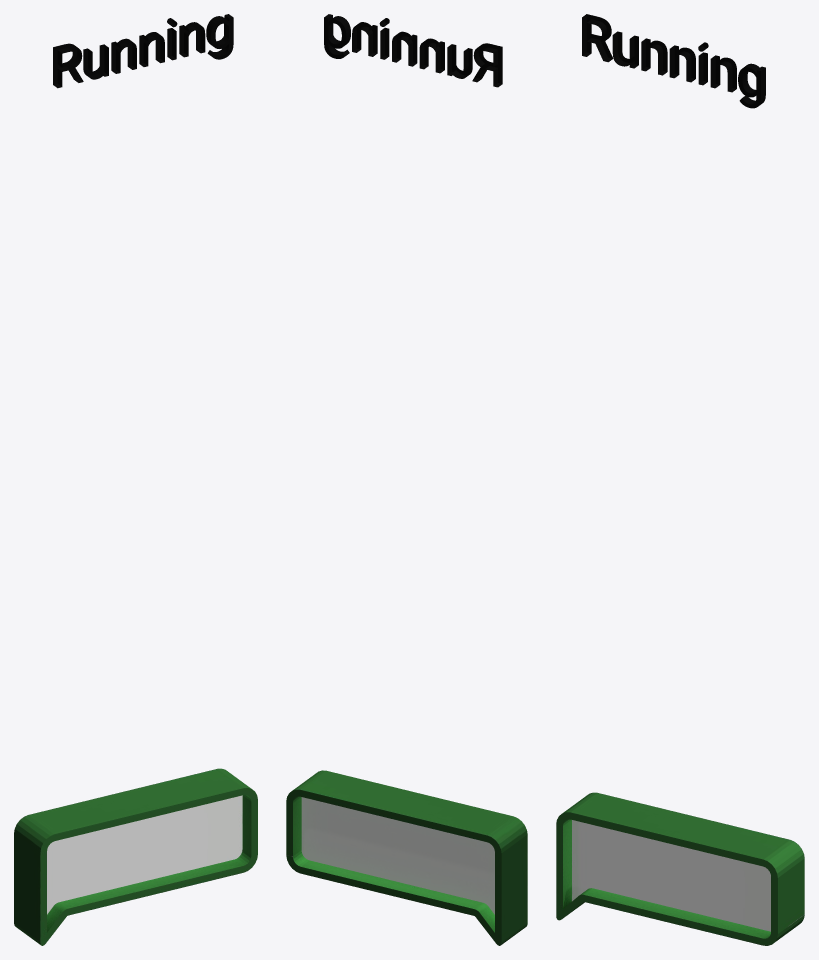
Rendered from pop_up_running.glb.
3 views of the same model, side by side, from view 1: azimuth 30°, elevation 25°; view 2: azimuth 150°, elevation 25°; view 3: azimuth 330°, elevation 25° (orthographic). The views are drawn at different scales.
Visible parts, largest first — view 1: pop_up_running, pop_up_running.001; view 2: pop_up_running, pop_up_running.001; view 3: pop_up_running, pop_up_running.001.
Part boxes in pixels (x1,y1,x2,y2): pop_up_running: (14,768,257,945); pop_up_running.001: (53,14,233,88); pop_up_running: (286,770,527,945); pop_up_running.001: (324,14,502,87); pop_up_running: (556,792,804,945); pop_up_running.001: (582,14,765,108).
Size of the model in its own units: 2.85 by 11.14 by 0.6.
2 materials, 1 textured.
